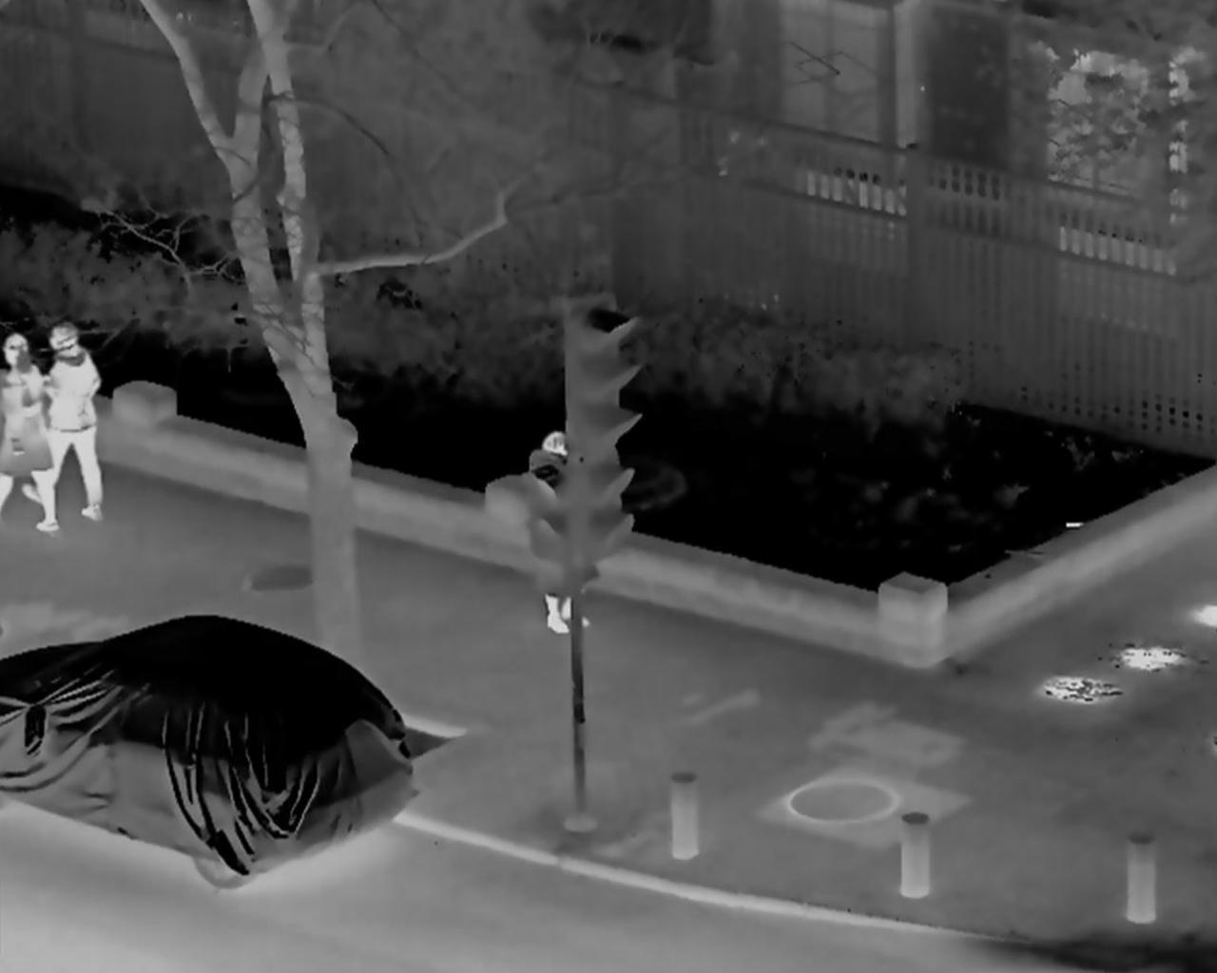person: (518, 434, 597, 642), (38, 330, 106, 524)
